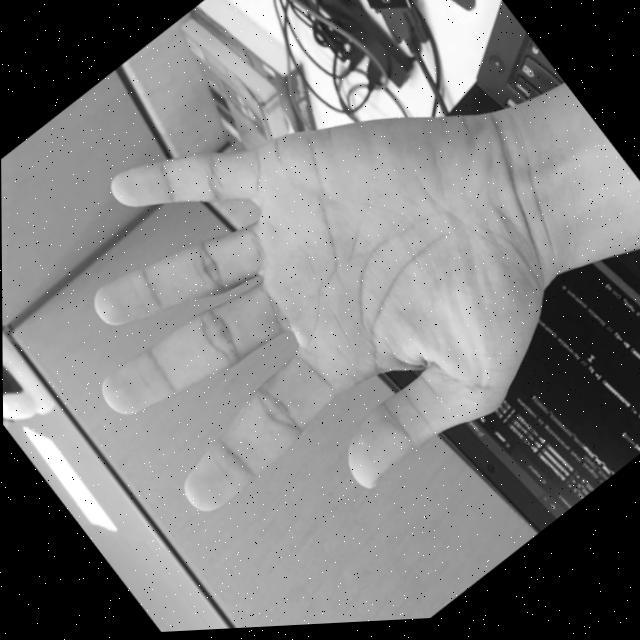no-gloves: (0, 0, 629, 611)
